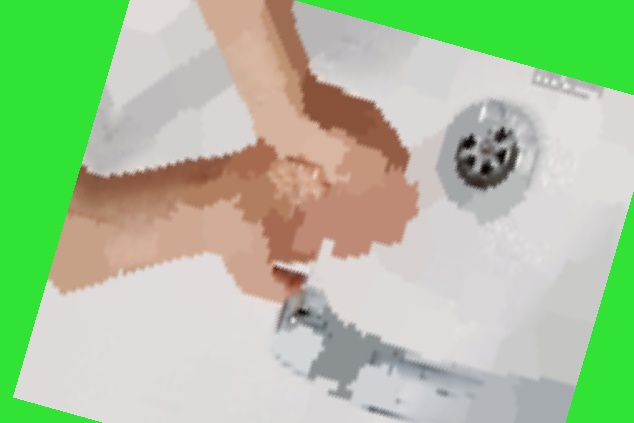washing hand: (131, 0, 537, 422)
